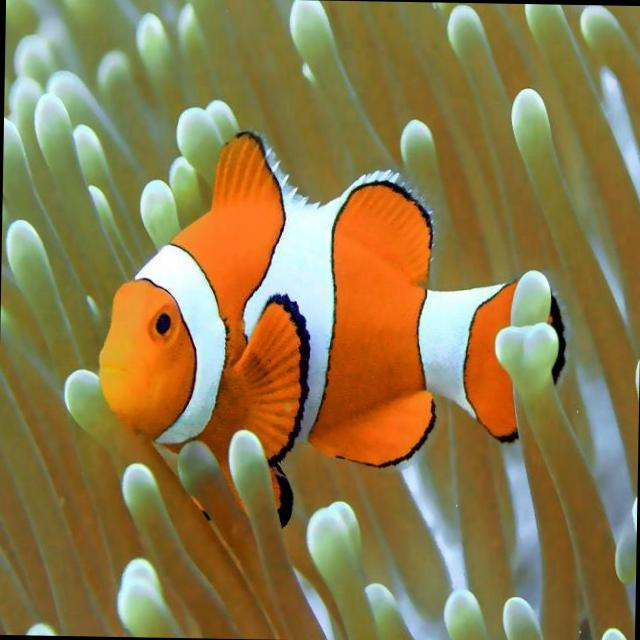ClownFish: (98, 127, 565, 528)
